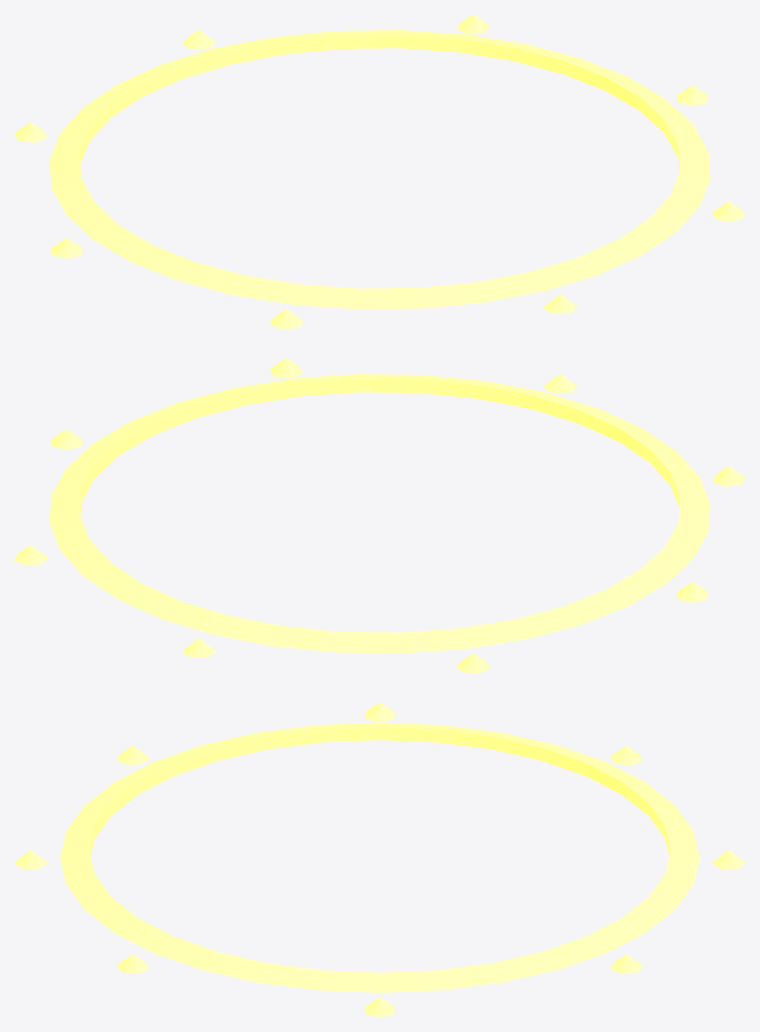
File: tb_seatring.glb
3 renders of one model, top to bottom at view 1: azimuth 30°, elevation 25°; view 2: azimuth 150°, elevation 25°; view 3: azimuth 270°, elevation 25°, orthographic. The views are drawn at different scales.
Parts seen in each view (by area): view 1: tb_seatring; view 2: tb_seatring; view 3: tb_seatring.
Part boxes in pixels (bbox=[...]): tb_seatring: bbox=[14, 14, 745, 329]; tb_seatring: bbox=[14, 358, 745, 673]; tb_seatring: bbox=[14, 702, 745, 1017].
Size of the model in its own units: 1.51 by 0.03 by 1.51.
